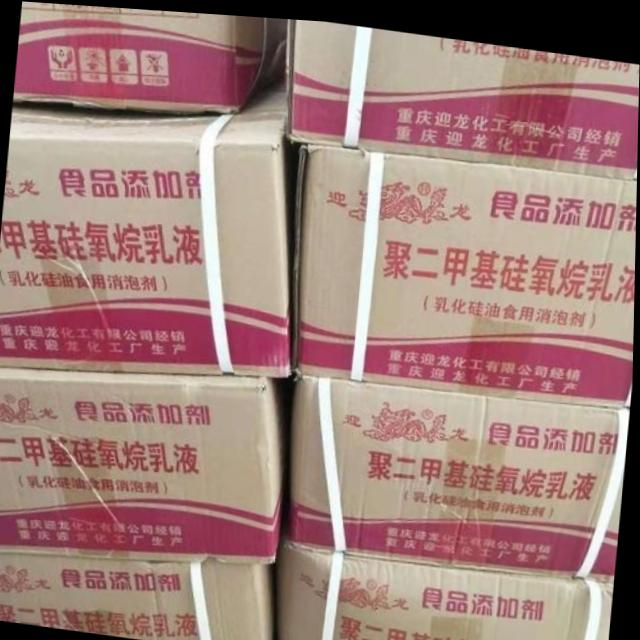box: (0, 58, 301, 373), (293, 142, 638, 397), (289, 369, 631, 576), (0, 366, 295, 561), (285, 15, 640, 172), (277, 522, 616, 640), (13, 1, 275, 112), (0, 551, 279, 640)
